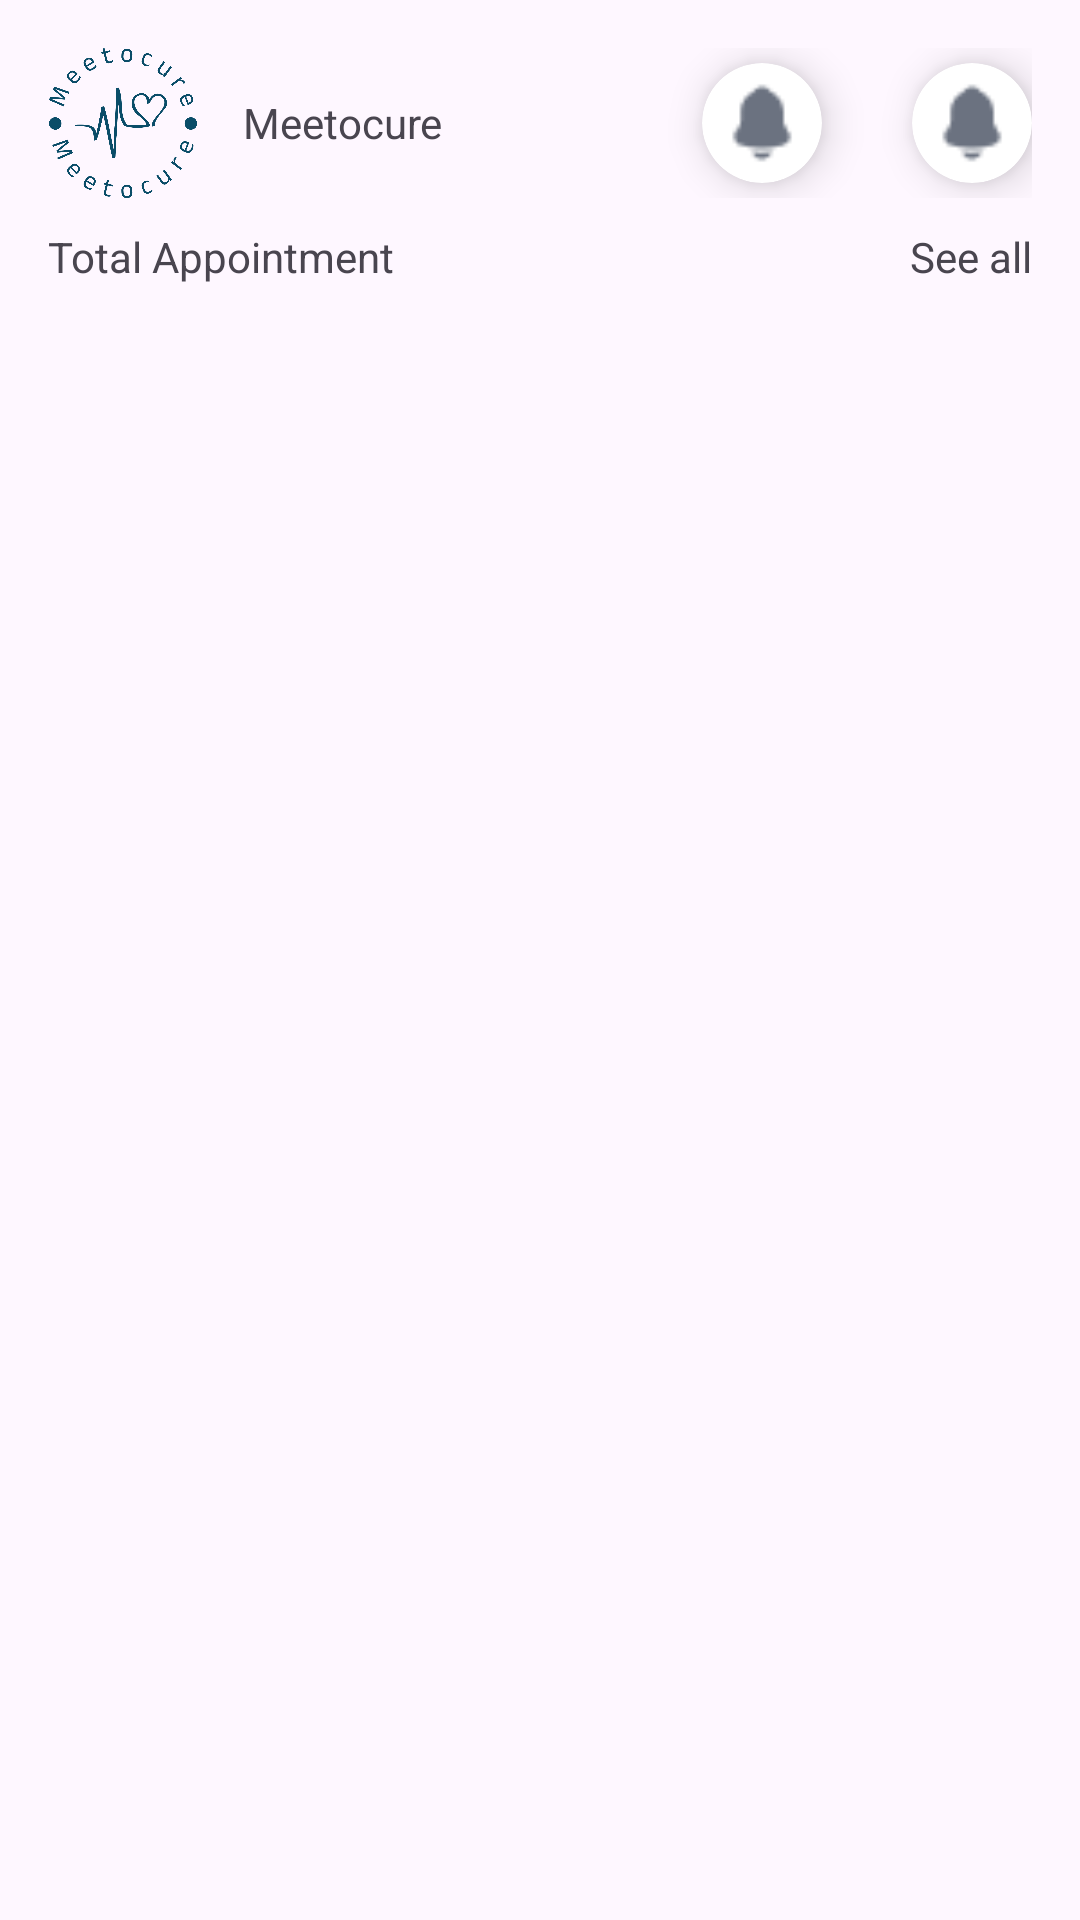

Screen size 1080×1920. Icon name, then its center in pixels as (x=x, y=y):
notification: (x=762, y=123), (x=972, y=123)
